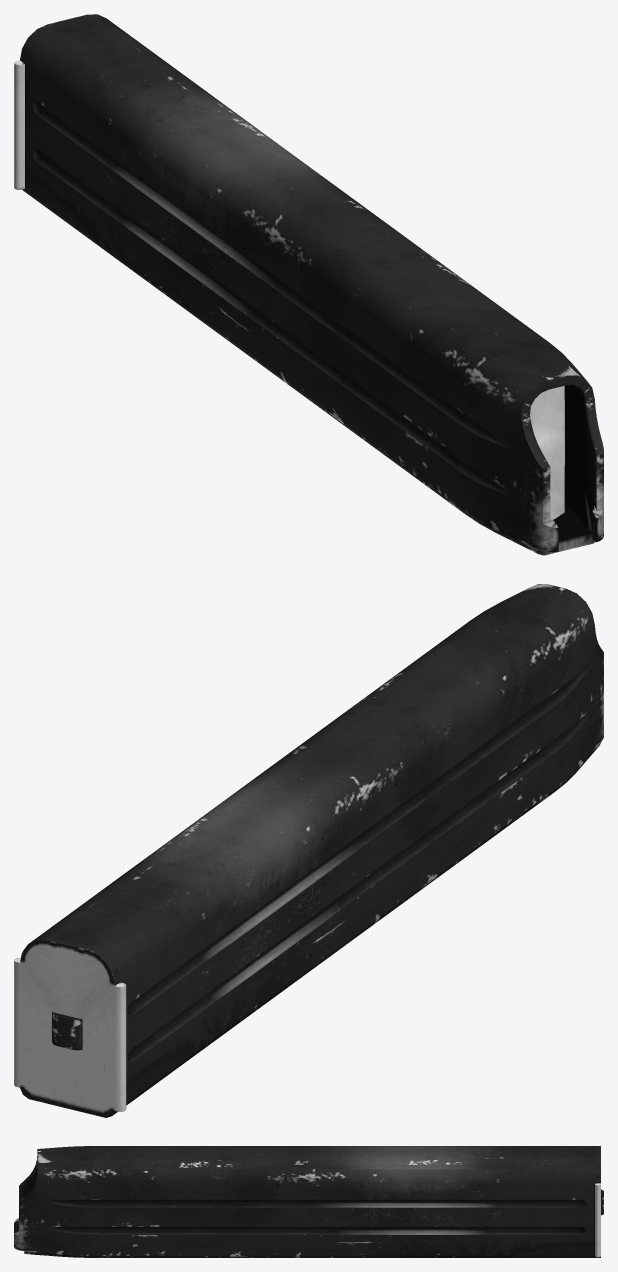
Rendered from MagPM63RAKExtLg.fbx.
The picture shows the model from 3 angles, top to bottom: view 1: azimuth 30°, elevation 25°; view 2: azimuth 150°, elevation 25°; view 3: azimuth 270°, elevation 25°; orthographic projection. The views are drawn at different scales.
Parts seen in each view (by area): view 1: MagPM63RAKExtLg; view 2: MagPM63RAKExtLg; view 3: MagPM63RAKExtLg.
Part boxes in pixels (x1,y1,x2,y2): MagPM63RAKExtLg: [14, 14, 603, 555]; MagPM63RAKExtLg: [14, 584, 603, 1117]; MagPM63RAKExtLg: [14, 1146, 603, 1257].
Bounding box in the file's own units: 0.014 × 0.0207 × 0.112.
